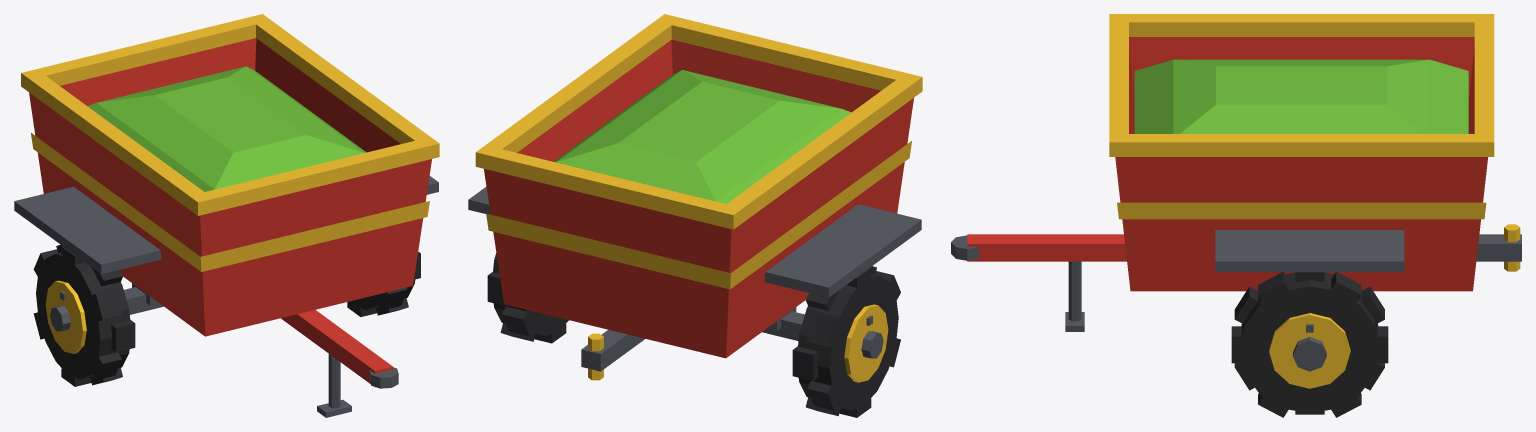
File: tipcart.glb
3 renders of one model, left to right at view 1: azimuth 30°, elevation 25°; view 2: azimuth 150°, elevation 25°; view 3: azimuth 270°, elevation 25°, orthographic. The views are drawn at different scales.
Parts seen in each view (by area): view 1: hopper, hopper_lip, grain, fender_R, hopper_band, tyre_R, tread_R, tongue, rim_R, tread_L, stand, axle (+2 smaller); view 2: hopper, hopper_lip, grain, fender_R, hopper_band, tyre_R, tread_R, rim_R, tread_L, tow_bar, tyre_L, axle (+3 smaller); view 3: hopper, grain, hopper_lip, tyre_L, fender_L, hopper_band, tread_L, tongue, rim_L, tow_bar, hubcap_L, stand (+1 smaller).
Boxes of the visible parts, x1,y1,x2,y2 form: hopper: (29, 38, 431, 336); hopper_lip: (21, 14, 439, 215); grain: (87, 66, 366, 191); fender_R: (14, 186, 161, 274); hopper_band: (31, 133, 429, 271); tyre_R: (36, 252, 130, 379); tread_R: (33, 244, 135, 386); tongue: (281, 310, 393, 387); rim_R: (45, 280, 86, 353); tread_L: (347, 252, 420, 316); stand: (328, 354, 340, 408); axle: (124, 287, 163, 314); hopper: (484, 39, 913, 358); hopper_lip: (475, 14, 922, 229); grain: (554, 70, 851, 203); fender_R: (764, 204, 921, 297); hopper_band: (486, 141, 911, 289); tyre_R: (798, 274, 898, 410); tread_R: (792, 266, 900, 417); rim_R: (844, 304, 888, 382); tread_L: (487, 272, 566, 343); tow_bar: (581, 330, 645, 371); tyre_L: (493, 253, 568, 335); axle: (762, 311, 804, 340); hopper: (1115, 37, 1487, 291); grain: (1134, 59, 1468, 133); hopper_lip: (1109, 14, 1494, 156); tyre_L: (1240, 272, 1379, 413); fender_L: (1215, 230, 1404, 271); hopper_band: (1117, 202, 1486, 219); tread_L: (1231, 272, 1388, 417); tongue: (967, 234, 1126, 261); rim_L: (1269, 313, 1350, 388); tow_bar: (1476, 234, 1521, 261); hubcap_L: (1292, 337, 1326, 371); stand: (1068, 261, 1081, 321).
Bounding box in the file's own units: 1.31 × 0.875 × 1.75.
